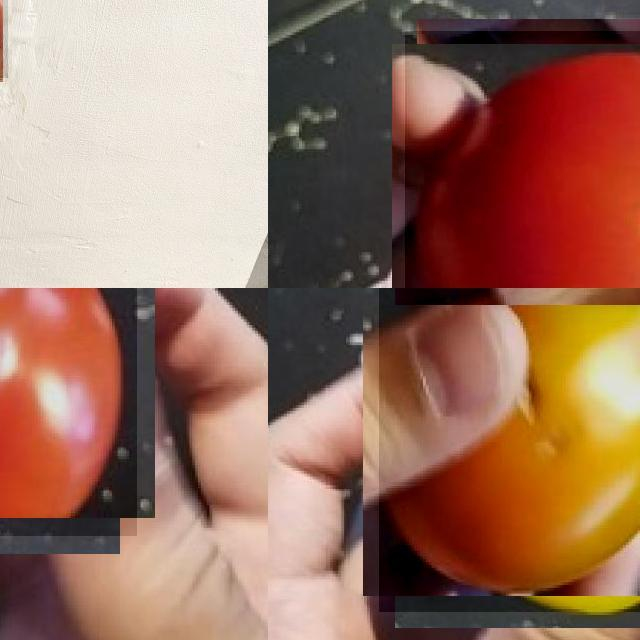Fresh Tomato: (404, 31, 640, 288), (0, 288, 137, 536)
Rotten Tomato: (379, 288, 640, 612)
